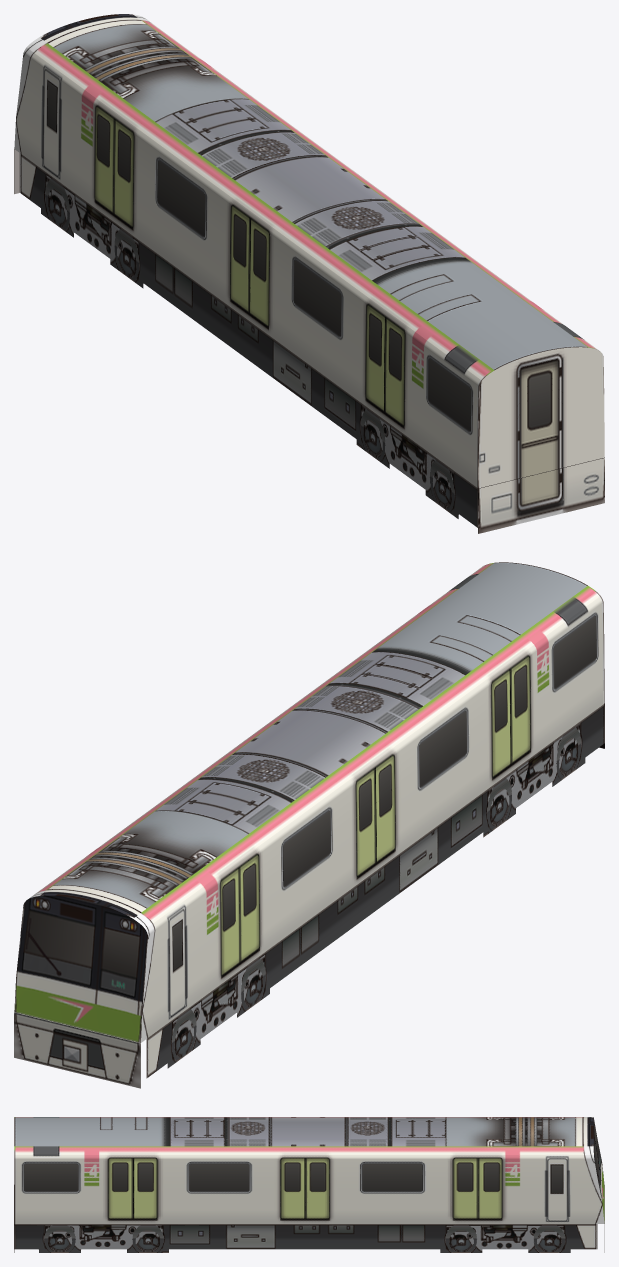
File: car4.glb
3 views of the same model, one above another, from view 1: azimuth 30°, elevation 25°; view 2: azimuth 150°, elevation 25°; view 3: azimuth 270°, elevation 25° (orthographic). The views are drawn at different scales.
Parts seen in each view (by area): view 1: car4.glb; view 2: car4.glb; view 3: car4.glb.
Part boxes in pixels (x1,y1,x2,y2): car4.glb: (14,14,604,533); car4.glb: (14,562,604,1088); car4.glb: (14,1117,604,1252).
Size of the model in its own units: 2.49 by 3.12 by 15.83.
9 materials, 8 textured.
